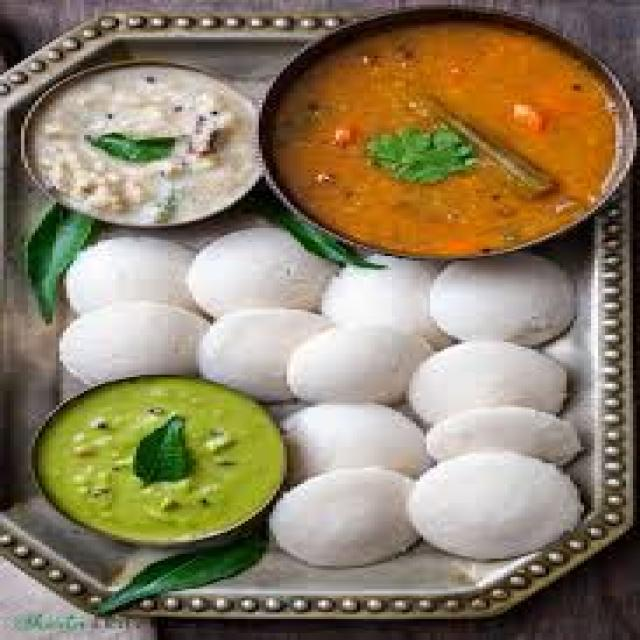IDLI: (406, 451, 581, 559), (273, 468, 416, 563), (189, 226, 336, 317), (430, 254, 570, 344), (409, 342, 563, 421), (63, 300, 206, 384), (199, 310, 325, 400), (287, 326, 430, 403), (283, 403, 427, 479), (66, 237, 192, 312), (427, 407, 577, 463), (322, 256, 430, 333)
